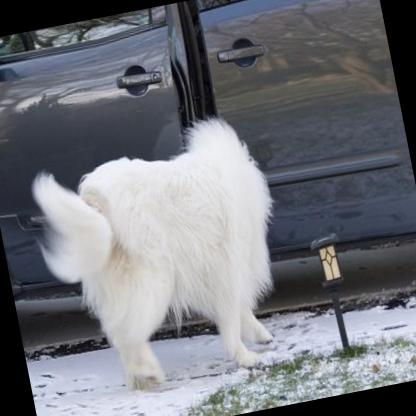Great_Pyrenees: (22, 106, 306, 400)
